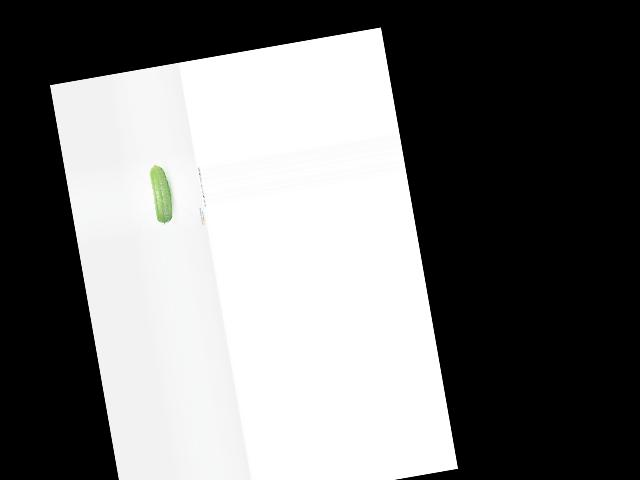cucumber: (147, 162, 175, 225)
